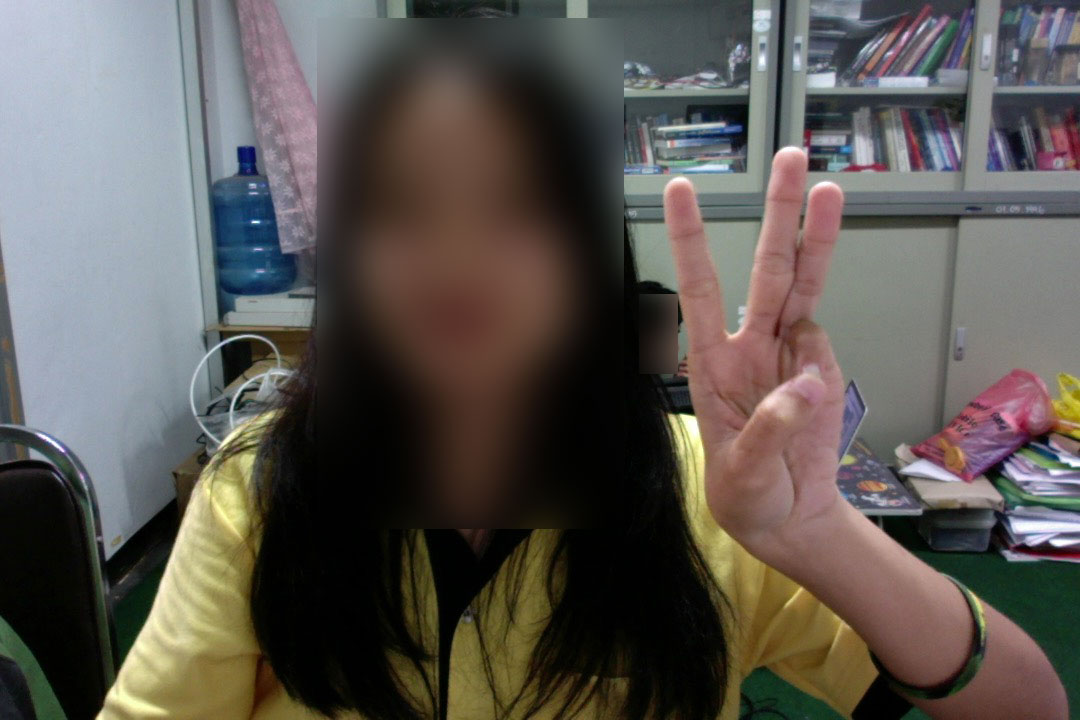wor: (651, 138, 853, 550)
